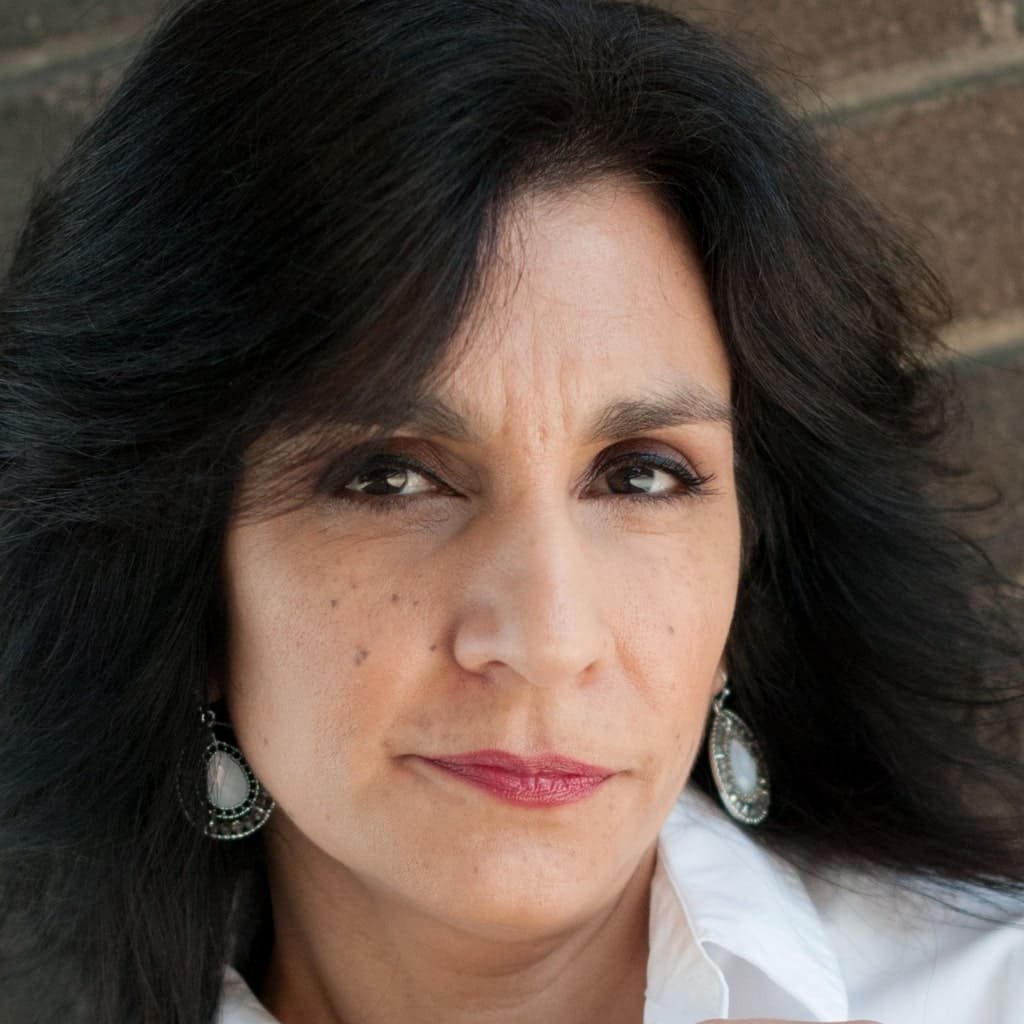without_mask: (235, 191, 740, 918)
